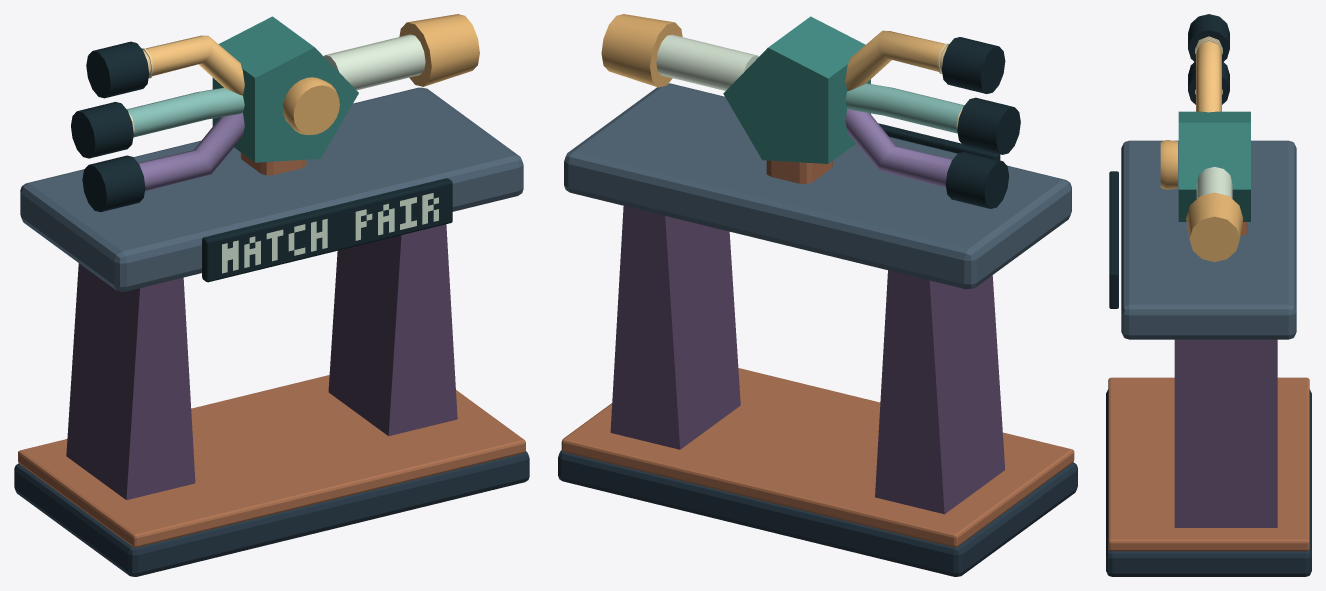
3 renders of one model, left to right at view 1: azimuth 30°, elevation 25°; view 2: azimuth 150°, elevation 25°; view 3: azimuth 270°, elevation 25°, orthographic. The views are drawn at different scales.
Visible parts, largest first — view 1: PR052 enamel and hardware; view 2: PR052 enamel and hardware; view 3: PR052 enamel and hardware.
Part boxes in pixels (left/top/right/bottom): PR052 enamel and hardware: left=14, top=14, right=529, bottom=576; PR052 enamel and hardware: left=558, top=14, right=1077, bottom=576; PR052 enamel and hardware: left=1106, top=14, right=1311, bottom=576.
Size of the model in its own units: 1.1 by 1.23 by 0.5604.
